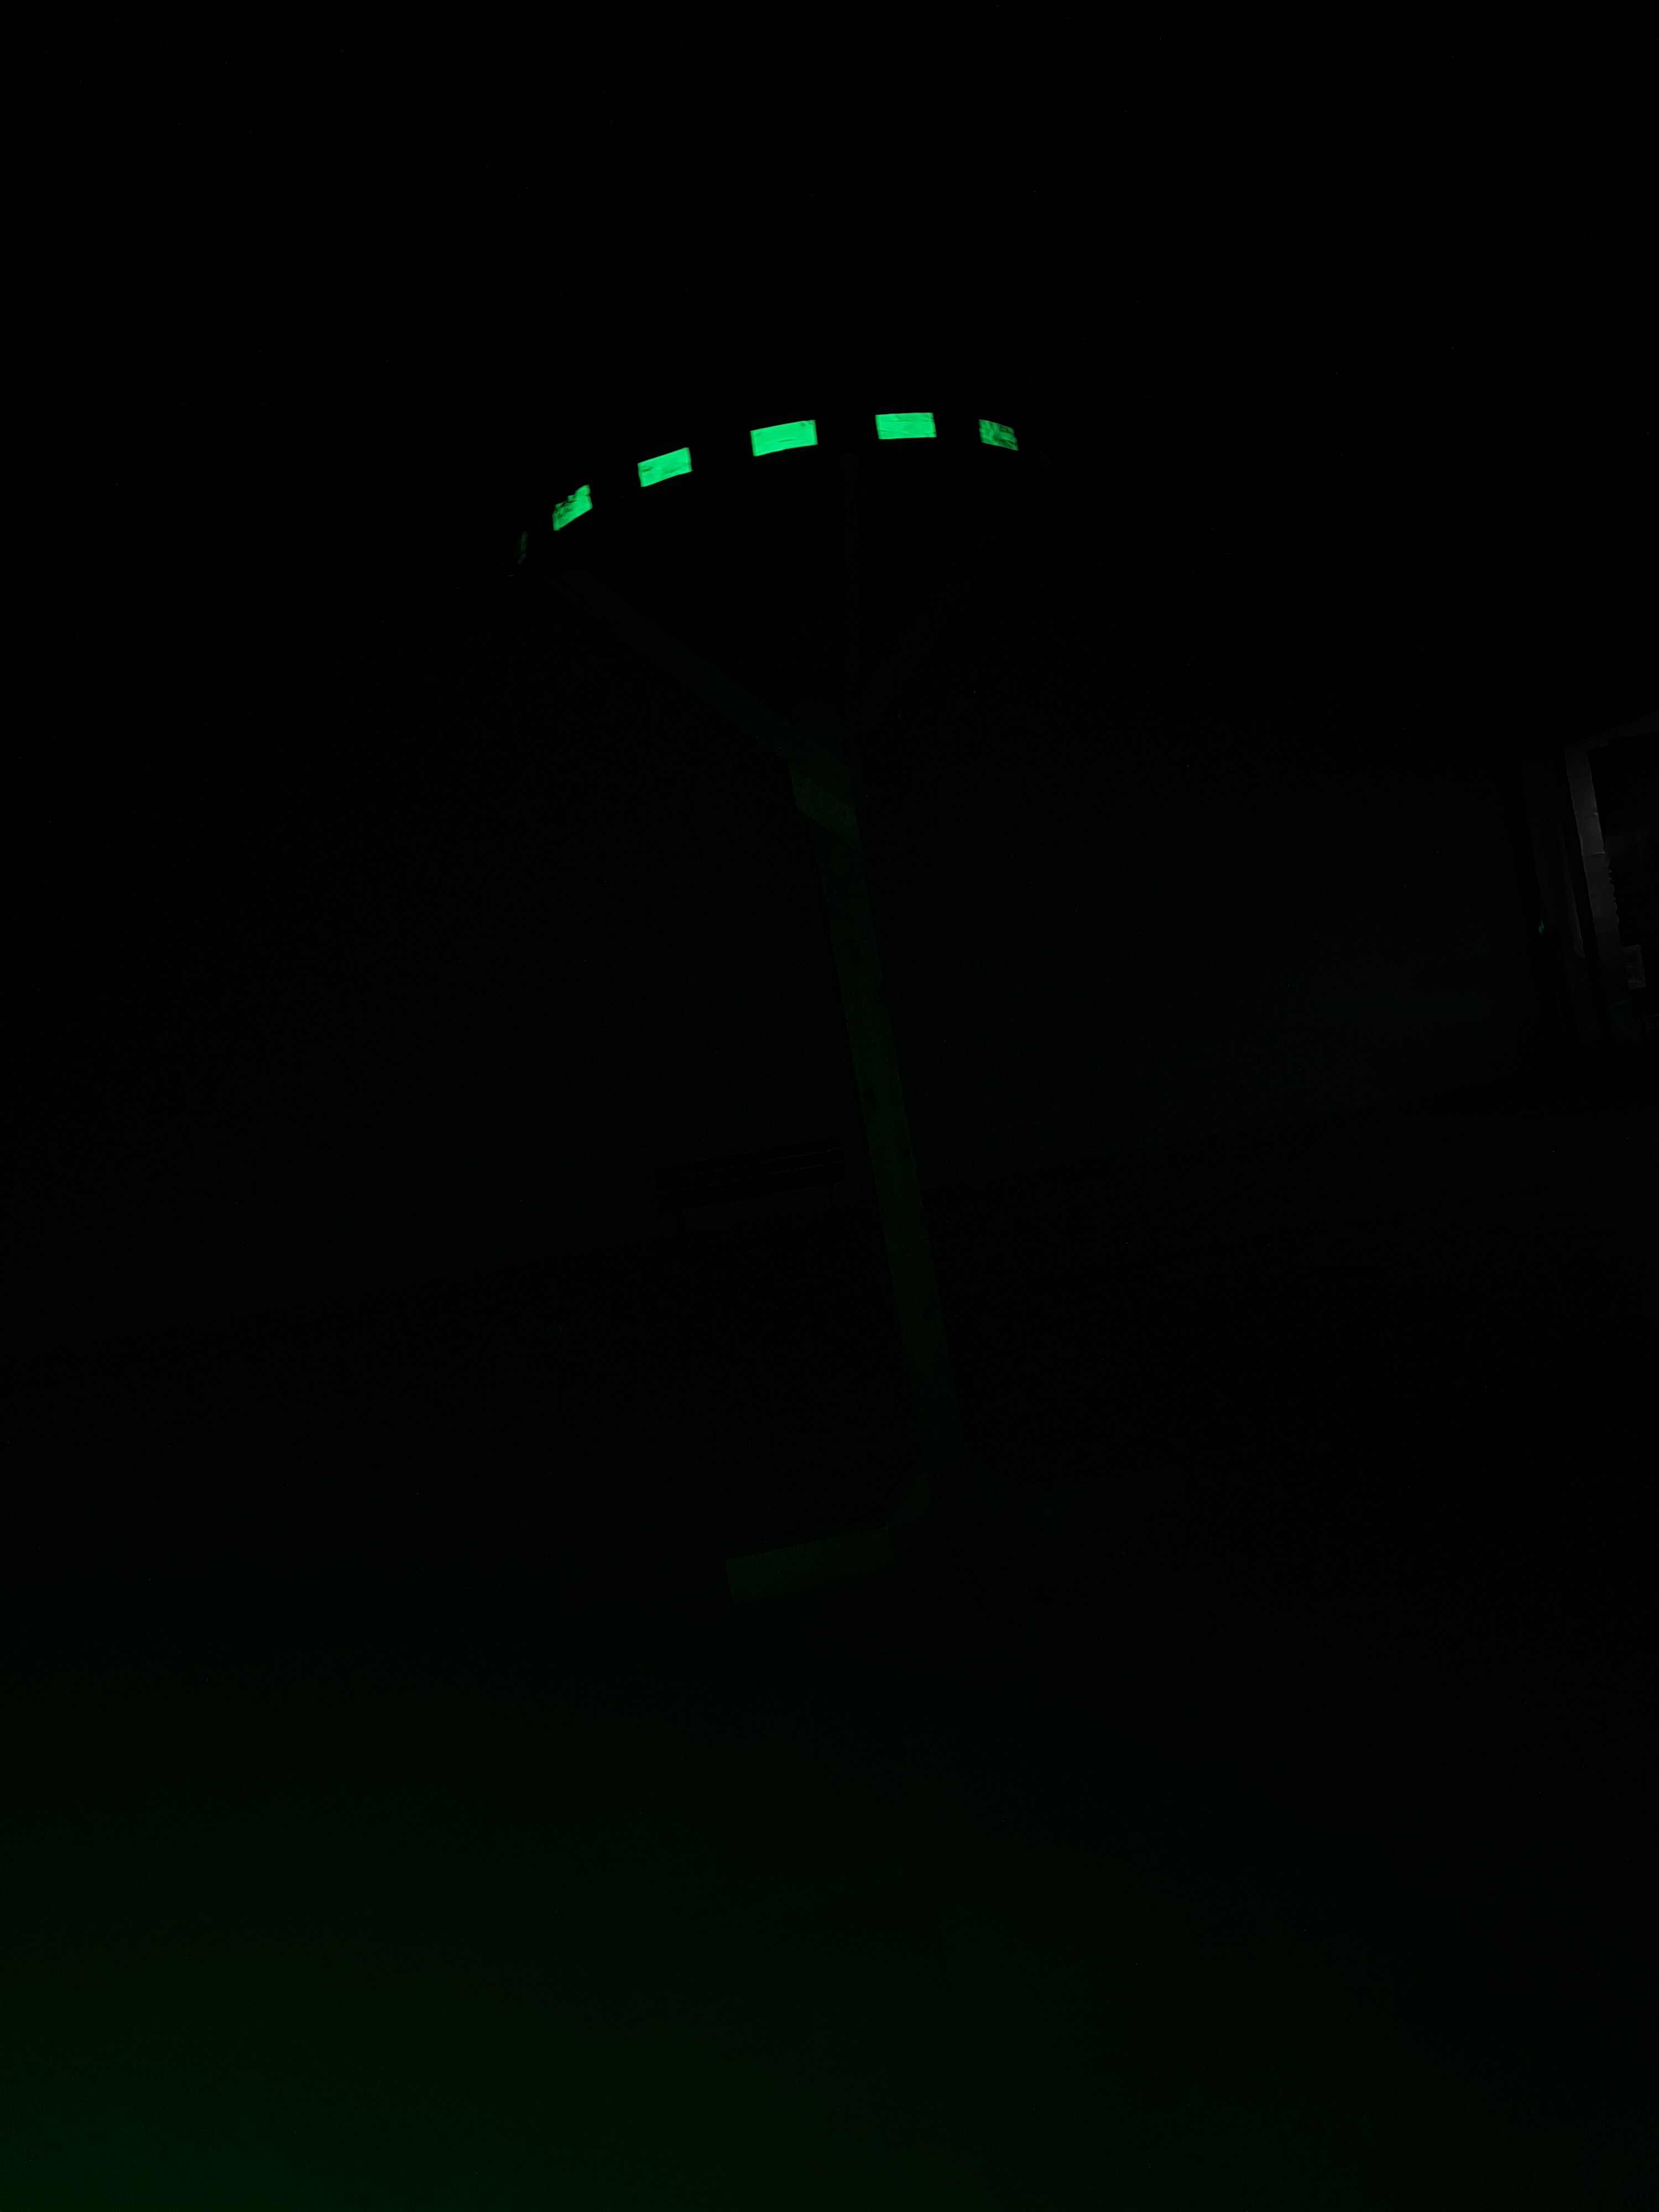hoop: (544, 411, 1021, 529)
